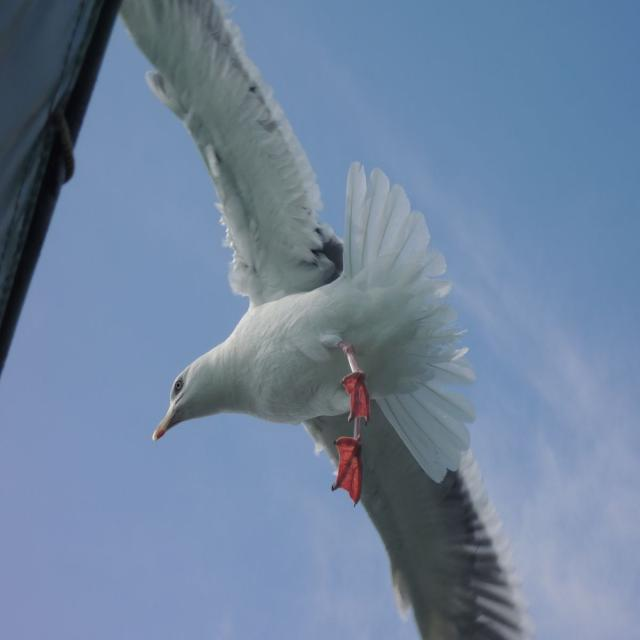bird: (112, 0, 538, 640)
